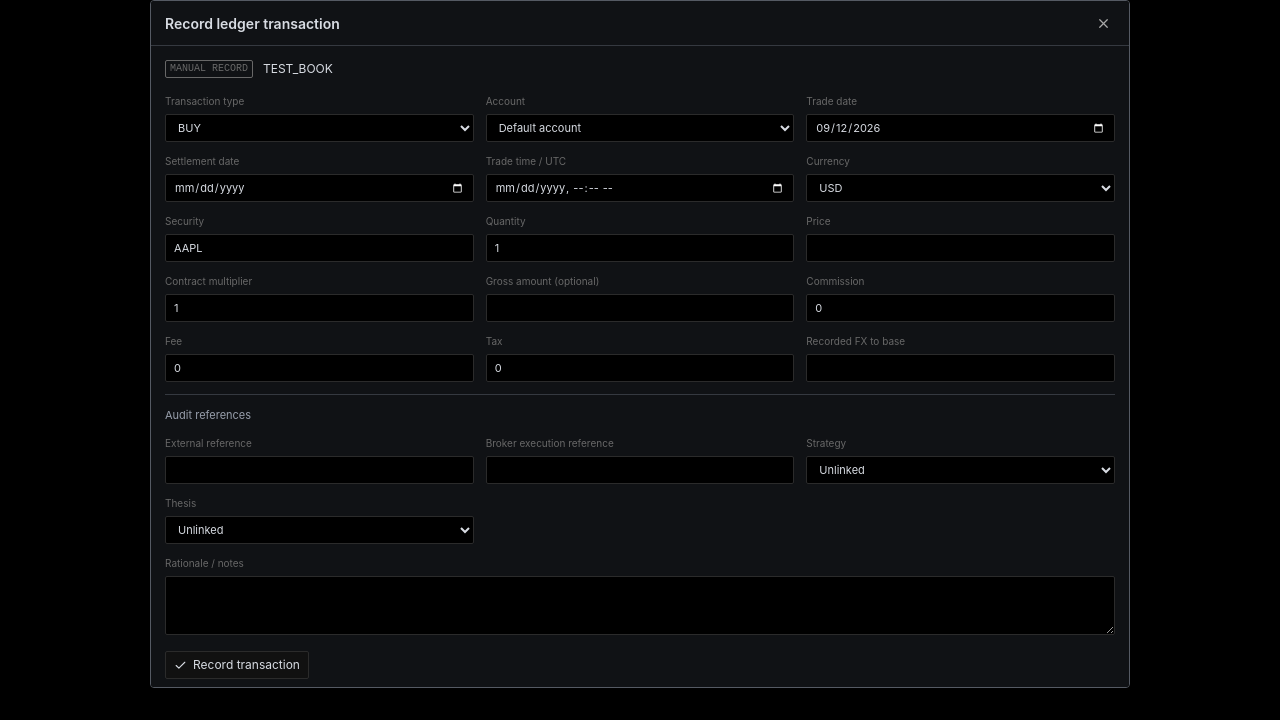
Test: manual transaction entry › defaults cash to the book currency and never offers an identical FX pair
expect the element "Transaction type" is enabled: met, box x1=165 y1=94 x2=1115 y2=651
Select "FX_CONVERSION" in the dropdown labelled "Transaction type" at (319, 128), box x1=165 y1=114 x2=474 y2=142
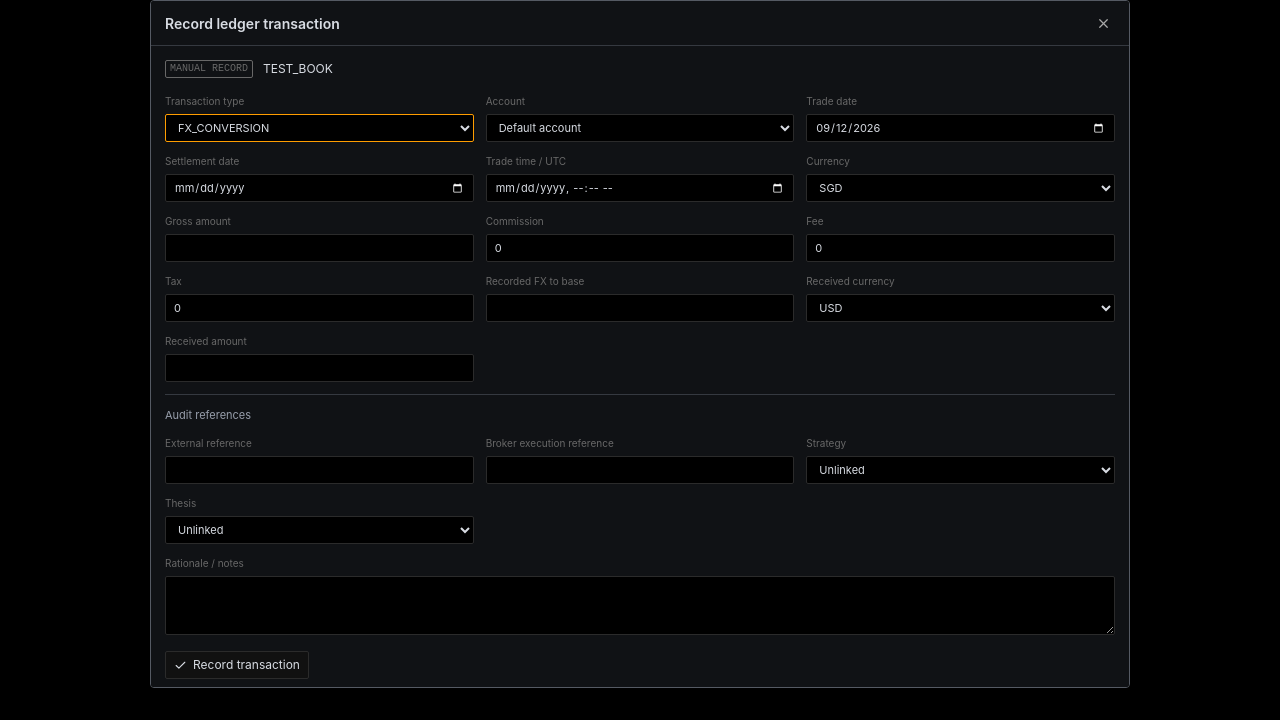
expect the dropdown labelled "Currency" shows "SGD": met
expect the dropdown labelled "Received currency" shows "USD": met, box x1=806 y1=294 x2=1115 y2=322
Select "USD" in the dropdown labelled "Currency" at (961, 188), box x1=806 y1=174 x2=1115 y2=202
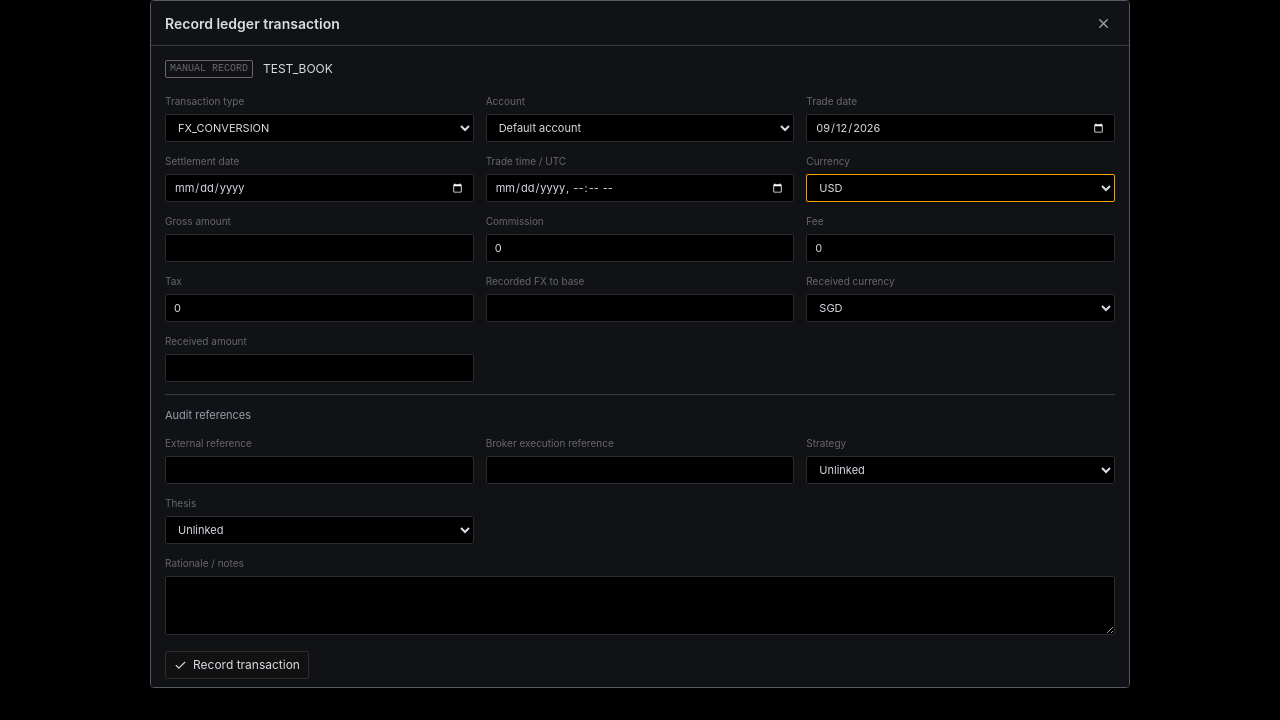
expect the text labelled "Security" is not shown: met
expect the dropdown labelled "Received currency" shows "SGD": met, box x1=806 y1=294 x2=1115 y2=322
